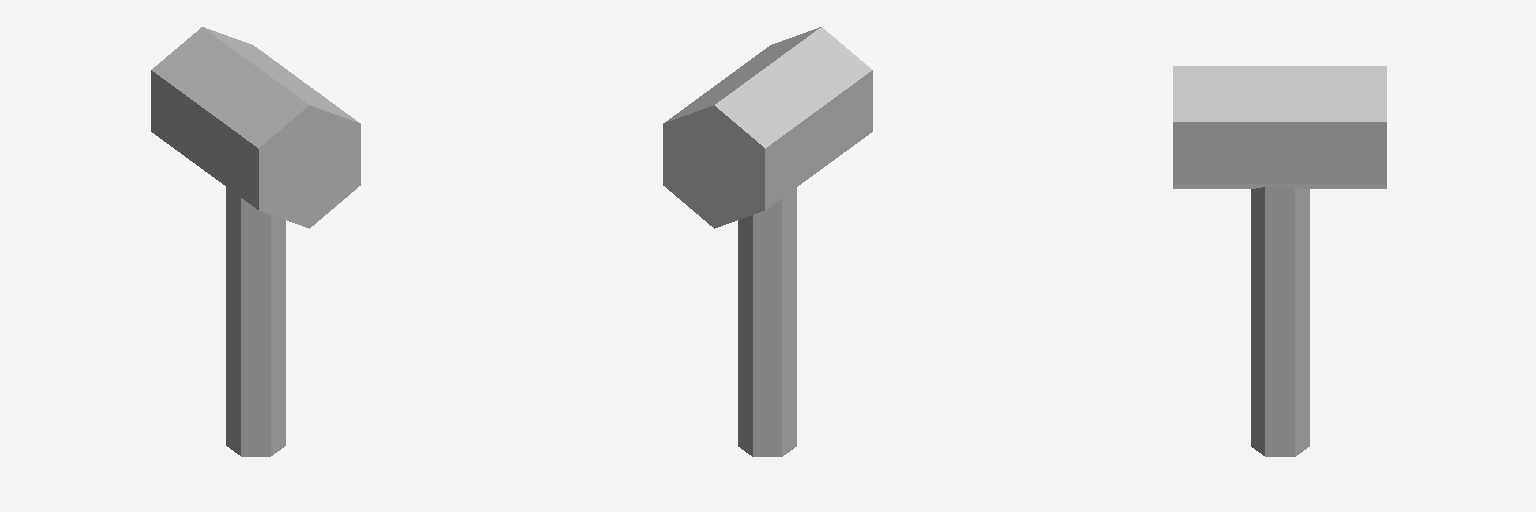
Rendered from mallet01.obj.
3 renders of one model, left to right at view 1: azimuth 30°, elevation 25°; view 2: azimuth 150°, elevation 25°; view 3: azimuth 270°, elevation 25°, orthographic.
Visible parts, largest first — view 1: mallet01; view 2: mallet01; view 3: mallet01.
Boxes of the visible parts, box(x1,y1,x2,y2) form: mallet01: box(151, 27, 360, 456); mallet01: box(663, 27, 872, 456); mallet01: box(1173, 66, 1386, 456).
Bounding box in the file's own units: 0.2089 × 0.7422 × 0.38.